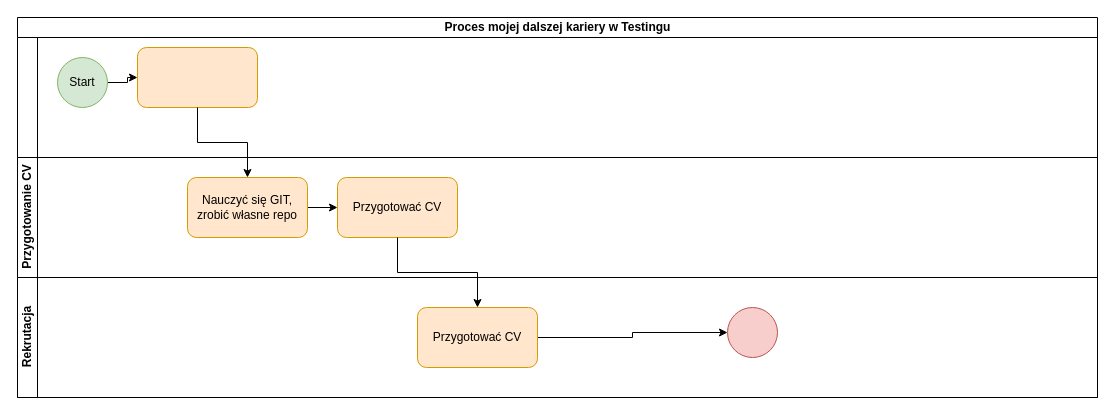
The diagram is 1115 pixels wide and 415 high, and some of its shapes have lost their labels. The box of each missing label's shape, as (x1, y1, x2, y2) in pixels:
Koniec: (726, 306, 778, 358)
Nauka: (16, 36, 1098, 158)
Praktyka podczas studiów: (136, 46, 258, 108)
